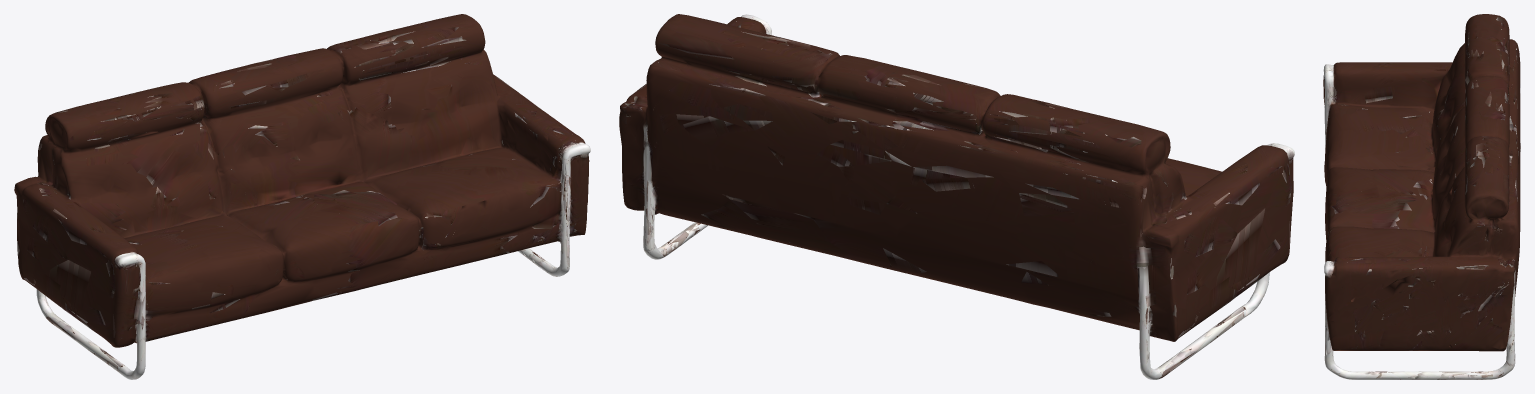
The model's file is couch.glb.
The picture shows the model from 3 angles, left to right: view 1: azimuth 30°, elevation 25°; view 2: azimuth 150°, elevation 25°; view 3: azimuth 270°, elevation 25°; orthographic projection. The views are drawn at different scales.
Bounding box in the file's own units: 2.01 × 0.8323 × 0.8074.
1 material, 1 textured.
